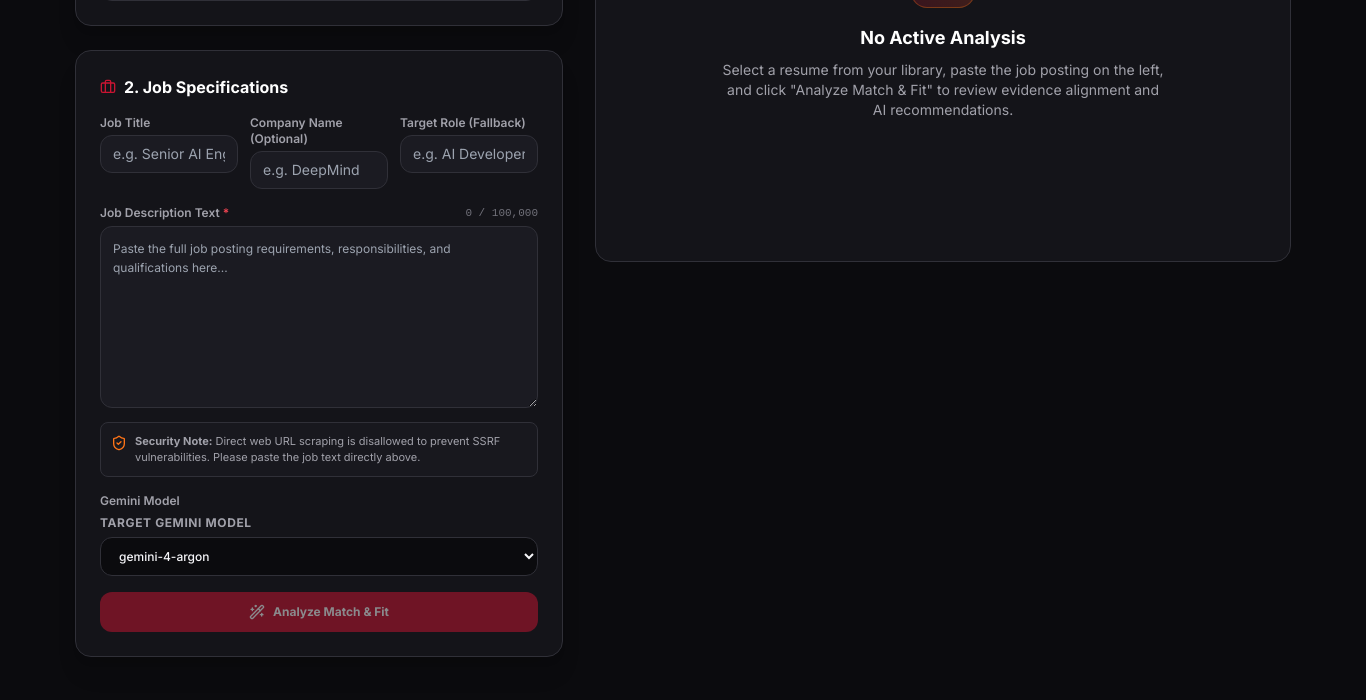
it: JobMatchPage Component › performs job match analysis and displays score breakdown and requirements
(page scrolled)
Replace the text in the text box with placeholder "Paste the full job posting requirements" with "We are looking for a Senior AI Developer with strong background in Python, PyTorch, and distributed training systems." at (319, 316), box [100, 226, 538, 408]
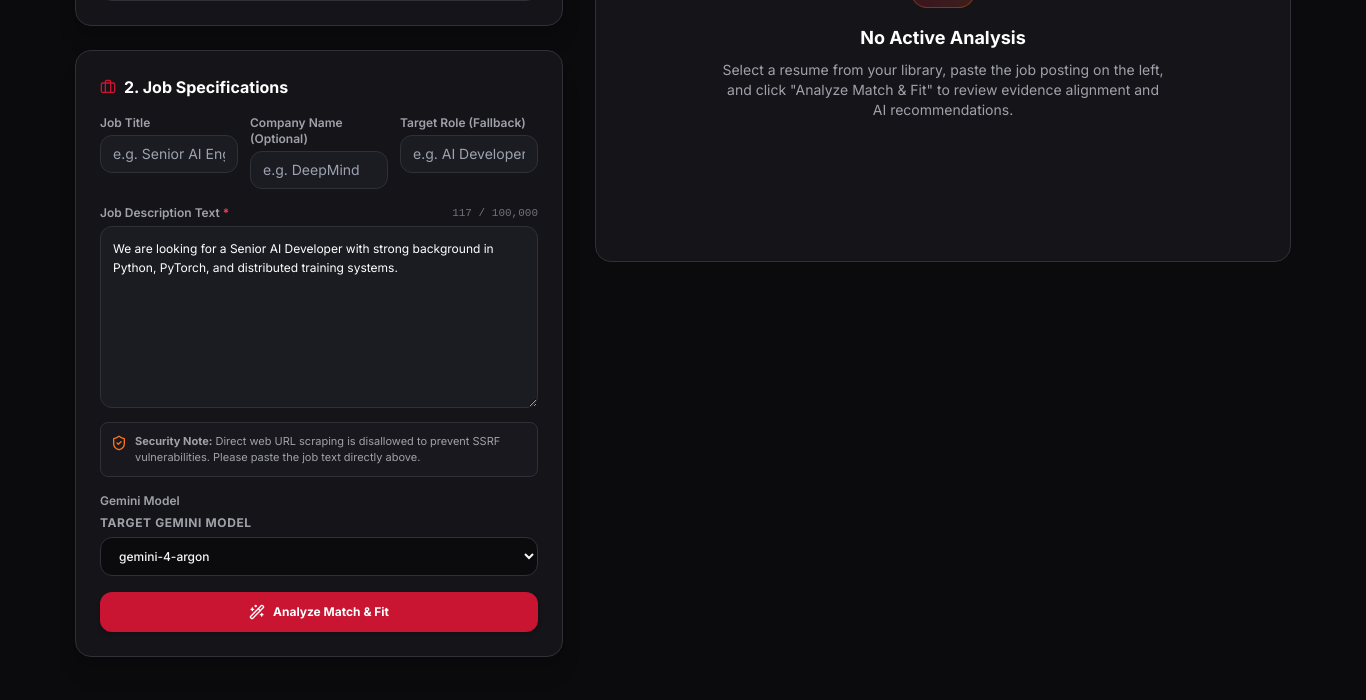
Click Analyze button
Click the button "Analyze Match & Fit" at (319, 612), box [100, 592, 538, 632]
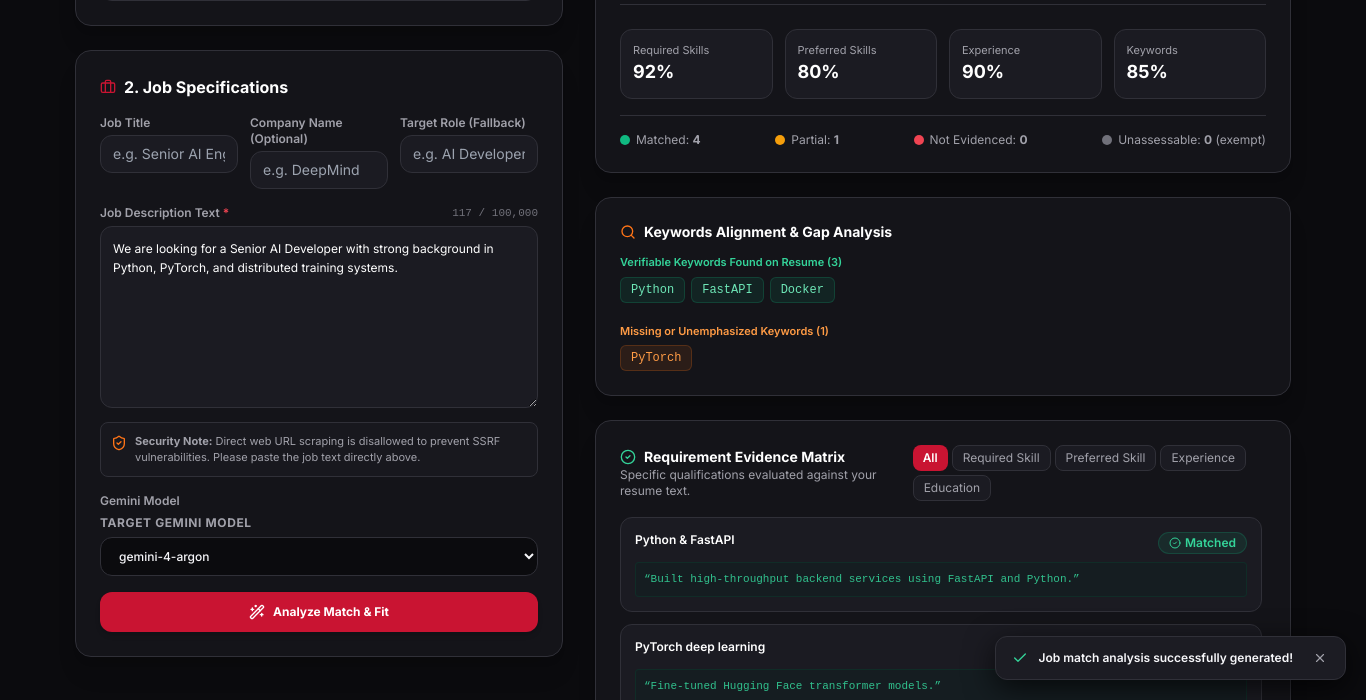
Check: the text "Python & FastAPI" is shown, box [635, 532, 735, 548]
Check: the text "PyTorch deep learning" is shown, box [635, 638, 765, 654]
Check: the text "Verifiable Keywords Found on Resume (3)" is shown, box [620, 255, 842, 269]
